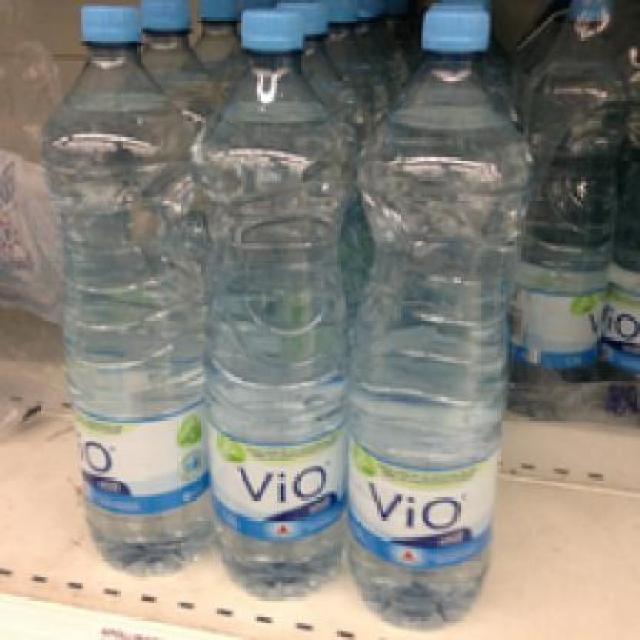Water: (337, 6, 523, 626), (182, 6, 348, 594), (37, 0, 203, 577)
